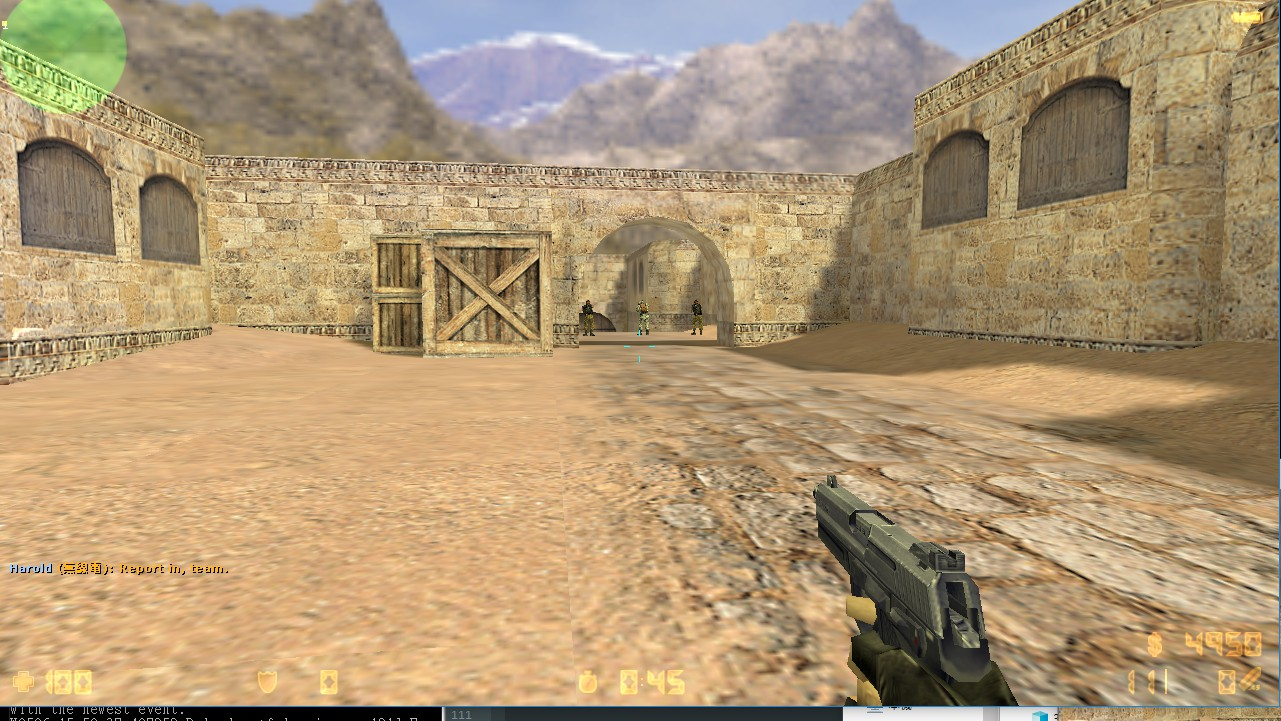person: (688, 298, 706, 336), (581, 298, 597, 339), (635, 301, 651, 337)
